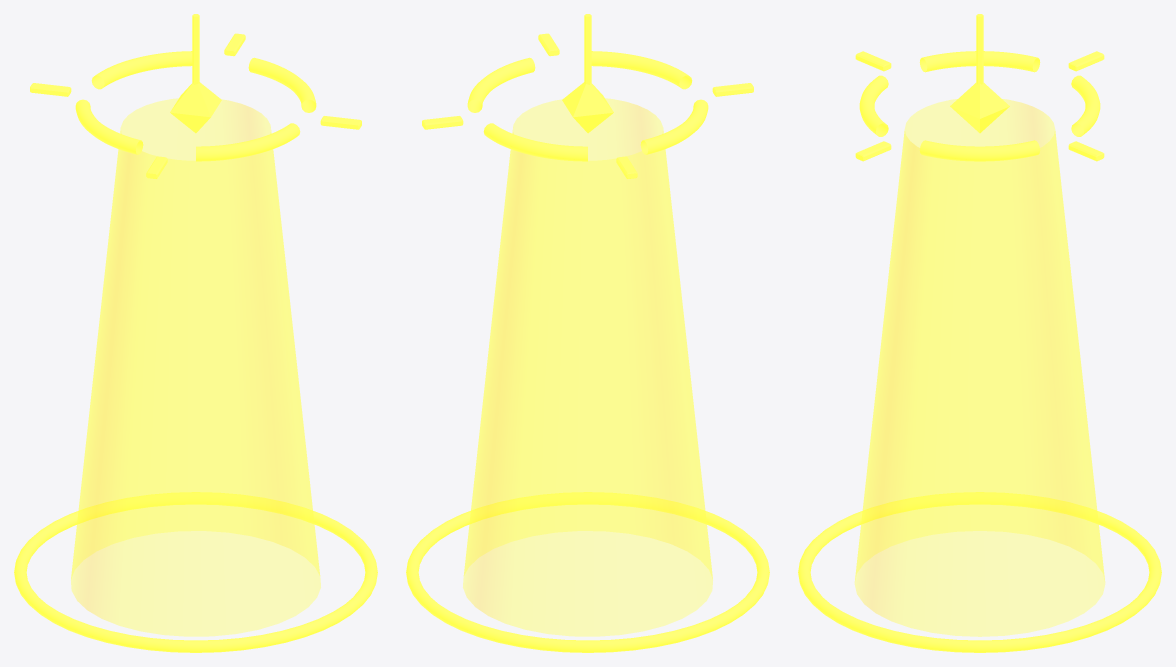
File: vfx_status_mark.glb
3 renders of one model, left to right at view 1: azimuth 30°, elevation 25°; view 2: azimuth 150°, elevation 25°; view 3: azimuth 270°, elevation 25°, orthographic.
Visible parts, largest first — view 1: mark_column, mark_ring, mark_bracket1, mark_bracket3, mark_pin, mark_bracket2, mark_bracket0, mark_pin_stem; view 2: mark_column, mark_ring, mark_bracket3, mark_bracket1, mark_pin, mark_bracket2, mark_bracket0, mark_pin_stem; view 3: mark_column, mark_ring, mark_bracket0, mark_bracket2, mark_pin, mark_bracket1, mark_bracket3, mark_pin_stem.
Part boxes in pixels (x1,y1,x2,y2): mark_column: (71,98,320,636); mark_ring: (14,492,377,652); mark_bracket1: (196,123,300,161); mark_bracket3: (91,51,192,89); mark_pin: (170,82,221,133); mark_bracket2: (75,99,143,154); mark_bracket0: (248,57,316,112); mark_pin_stem: (192,14,199,84); mark_column: (463,98,712,636); mark_ring: (406,492,769,652); mark_bracket3: (483,123,587,161); mark_bracket1: (591,51,692,89); mark_pin: (562,82,613,133); mark_bracket2: (640,99,708,154); mark_bracket0: (467,57,535,112); mark_pin_stem: (584,14,591,84); mark_column: (854,99,1105,636); mark_ring: (798,492,1161,652); mark_bracket0: (919,140,1040,161); mark_bracket2: (919,51,1040,72); mark_pin: (950,82,1009,133); mark_bracket1: (859,75,888,136); mark_bracket3: (1071,75,1100,136); mark_pin_stem: (976,14,983,84).
Bounding box in the file's own units: 1.45 × 2.5 × 1.45.
